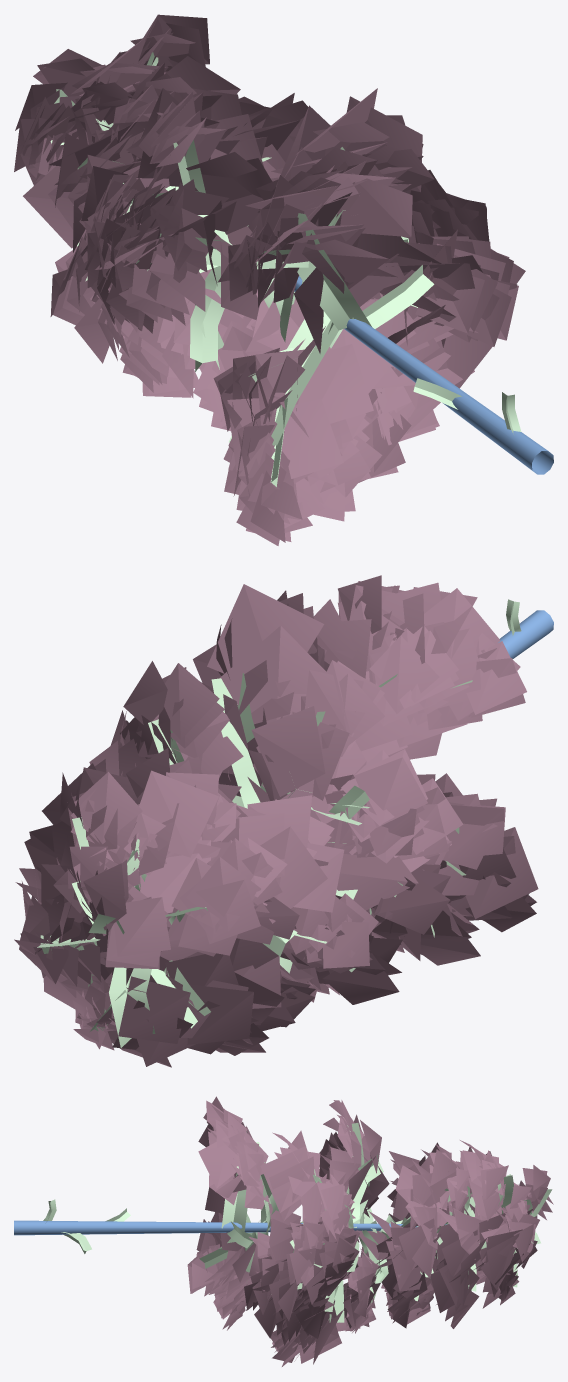
The model's file is Tree_0014.FBX.
3 renders of one model, top to bottom at view 1: azimuth 30°, elevation 25°; view 2: azimuth 150°, elevation 25°; view 3: azimuth 270°, elevation 25°, orthographic. The views are drawn at different scales.
Parts seen in each view (by area): view 1: Tree_0014_LOD0; view 2: Tree_0014_LOD0; view 3: Tree_0014_LOD0.
Part boxes in pixels (x1,y1,x2,y2): Tree_0014_LOD0: (14, 14, 553, 545); Tree_0014_LOD0: (14, 575, 553, 1067); Tree_0014_LOD0: (14, 1096, 553, 1366).
Size of the model in its own units: 466 by 937 by 446.
